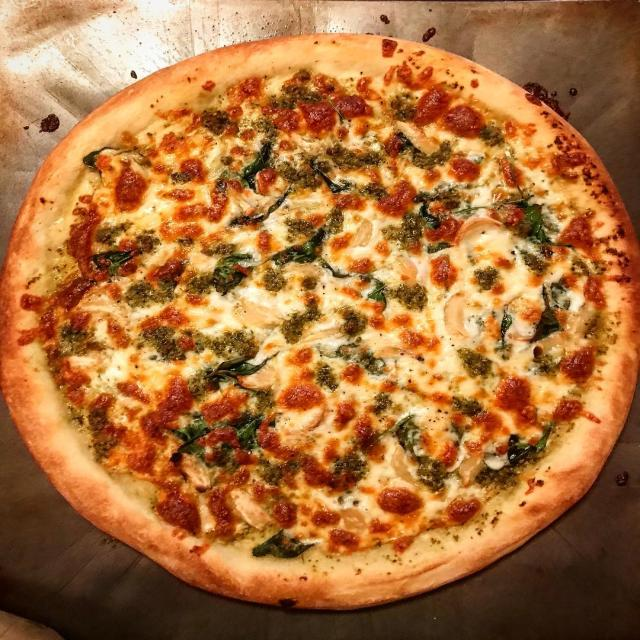basil: (265, 224, 350, 280), (160, 407, 213, 473), (508, 186, 556, 250), (217, 406, 270, 460), (497, 423, 554, 469), (196, 358, 276, 390), (246, 522, 313, 560), (207, 251, 259, 296), (307, 161, 355, 199), (532, 288, 564, 342), (412, 189, 447, 234), (86, 248, 134, 280), (392, 414, 428, 453), (358, 272, 388, 312), (494, 304, 512, 353)
pizza: (3, 34, 637, 608), (230, 140, 278, 193)
